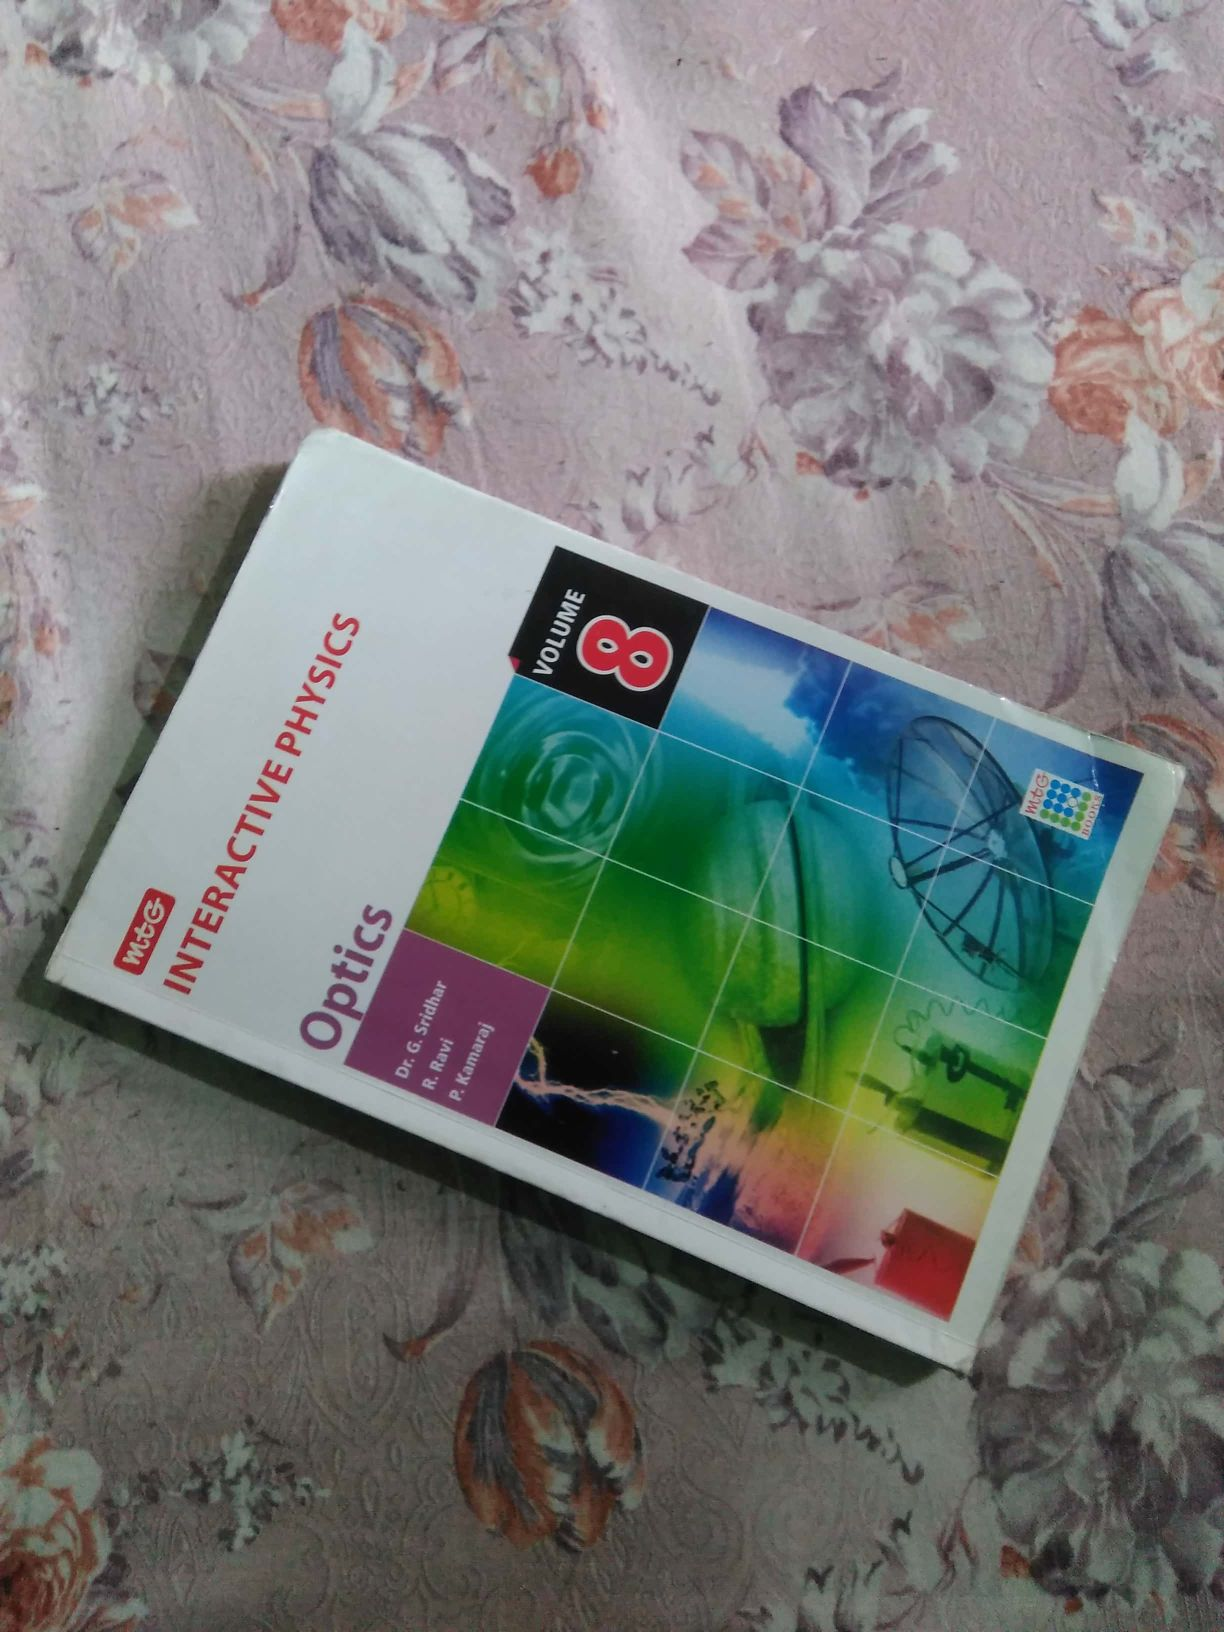optics: (44, 415, 1178, 1366)
